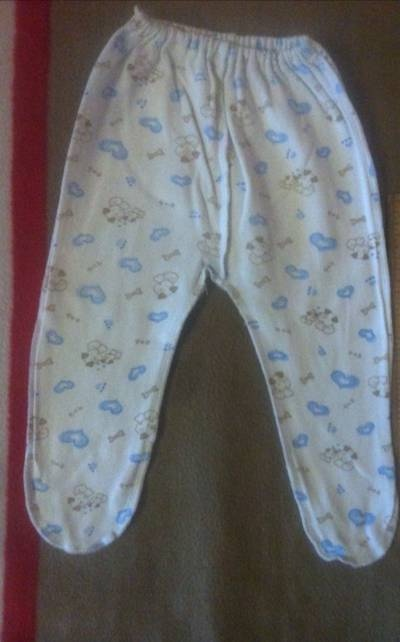Pants: (22, 13, 397, 565)
